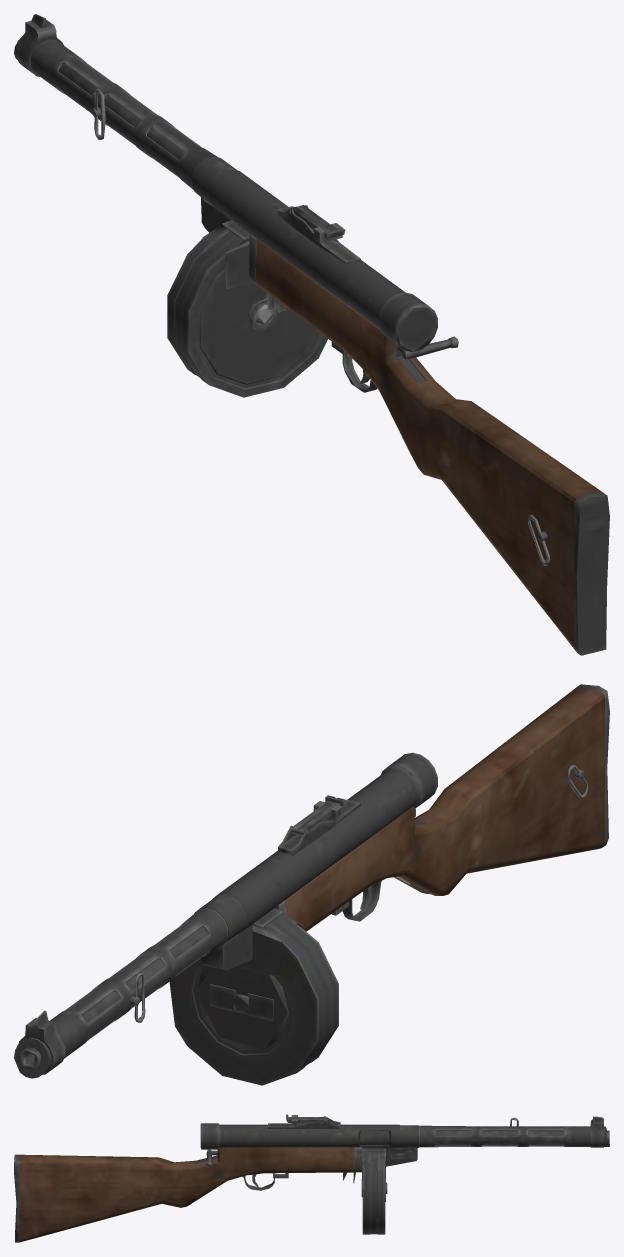
Rendered from suomi_lo.glb.
The picture shows the model from 3 angles, top to bottom: view 1: azimuth 30°, elevation 25°; view 2: azimuth 150°, elevation 25°; view 3: azimuth 270°, elevation 25°; orthographic projection. The views are drawn at different scales.
Parts seen in each view (by area): view 1: Body, Magazine; view 2: Body, Magazine; view 3: Body, Magazine, Ejector.
Part boxes in pixels (x1,y1,x2,y2): Body: (14,14,609,655); Magazine: (167,220,327,397); Body: (14,684,609,1078); Magazine: (169,908,338,1085); Body: (14,1114,609,1242); Magazine: (361,1148,387,1234); Ejector: (360,1130,389,1144).
Bounding box in the file's own units: 0.134 × 0.2003 × 0.8749.
Materials: 1 (1 with a texture image).
